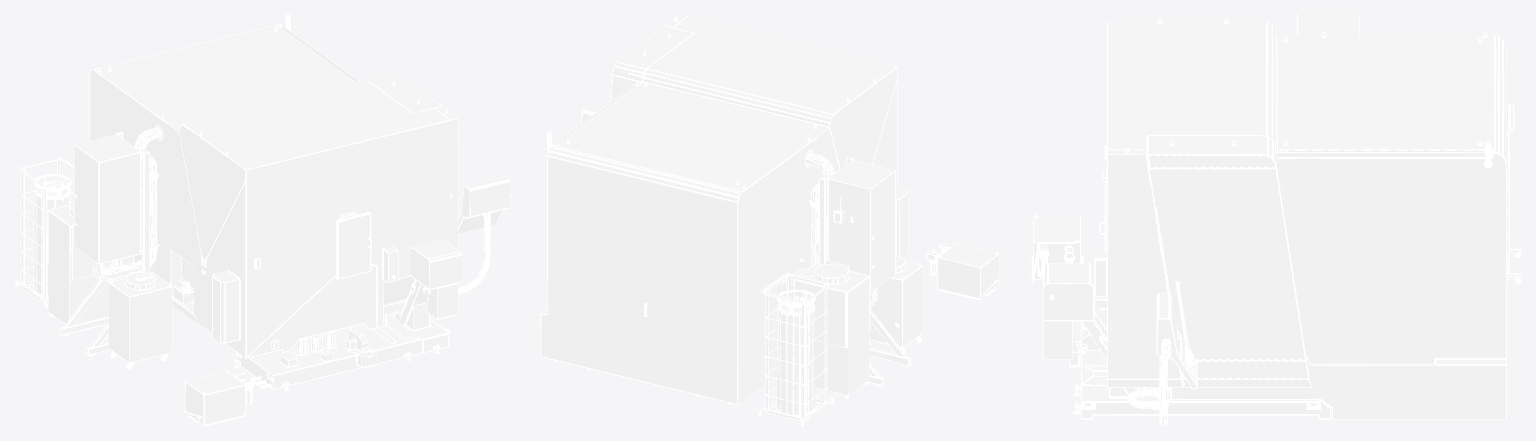
Rendered from hybrid_test.glb.
3 views of the same model, side by side, from view 1: azimuth 30°, elevation 25°; view 2: azimuth 150°, elevation 25°; view 3: azimuth 270°, elevation 25° (orthographic). The views are drawn at different scales.
Parts seen in each view (by area): view 1: Main Box LP Baked; view 2: Main Box LP Baked; view 3: Main Box LP Baked.
Part boxes in pixels (bbox=[...]): Main Box LP Baked: bbox=[14, 14, 511, 426]; Main Box LP Baked: bbox=[540, 14, 1001, 426]; Main Box LP Baked: bbox=[1030, 14, 1521, 426].
Bounding box in the file's own units: 13.9 × 7.87 × 12.37.
1 material, 1 textured.
